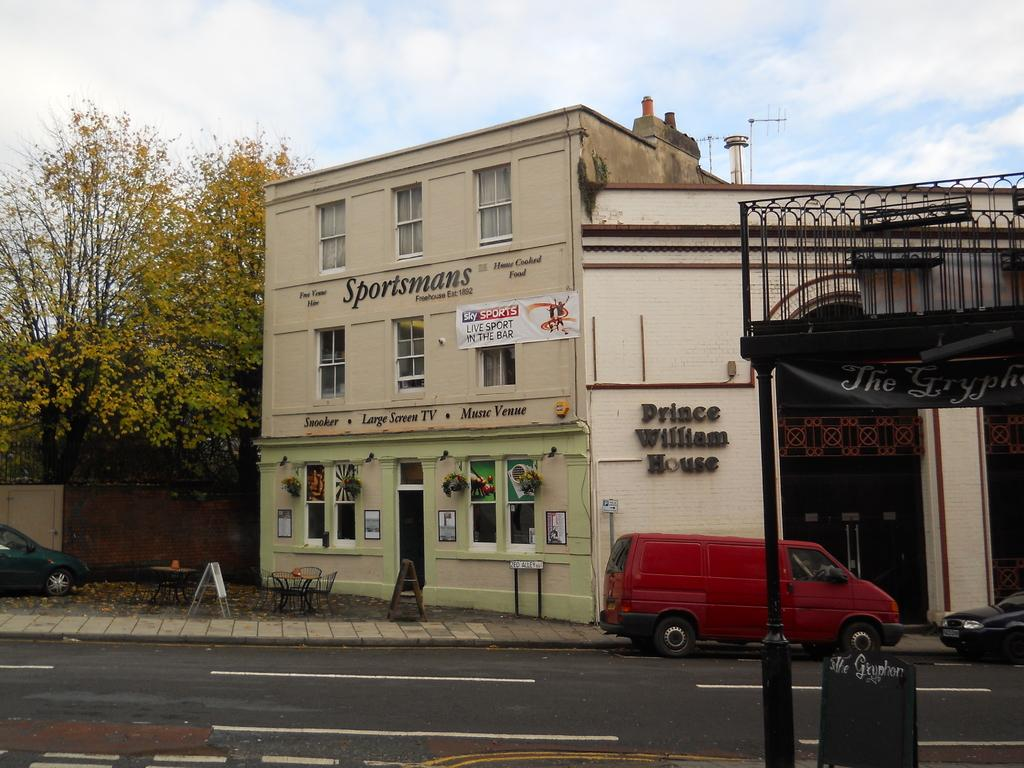vehicle: (599, 533, 902, 657), (0, 522, 93, 598), (939, 592, 1024, 660)
